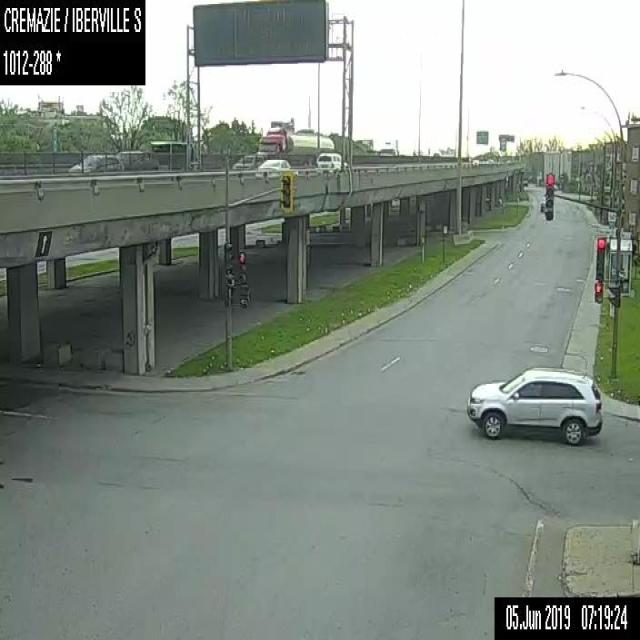vehicle: (464, 364, 602, 448), (257, 125, 334, 166), (150, 139, 197, 169), (70, 146, 124, 170), (255, 158, 299, 178), (118, 149, 160, 169), (316, 151, 347, 170), (231, 154, 267, 170), (377, 136, 399, 155), (539, 196, 545, 210), (472, 158, 478, 166), (523, 178, 527, 186)
